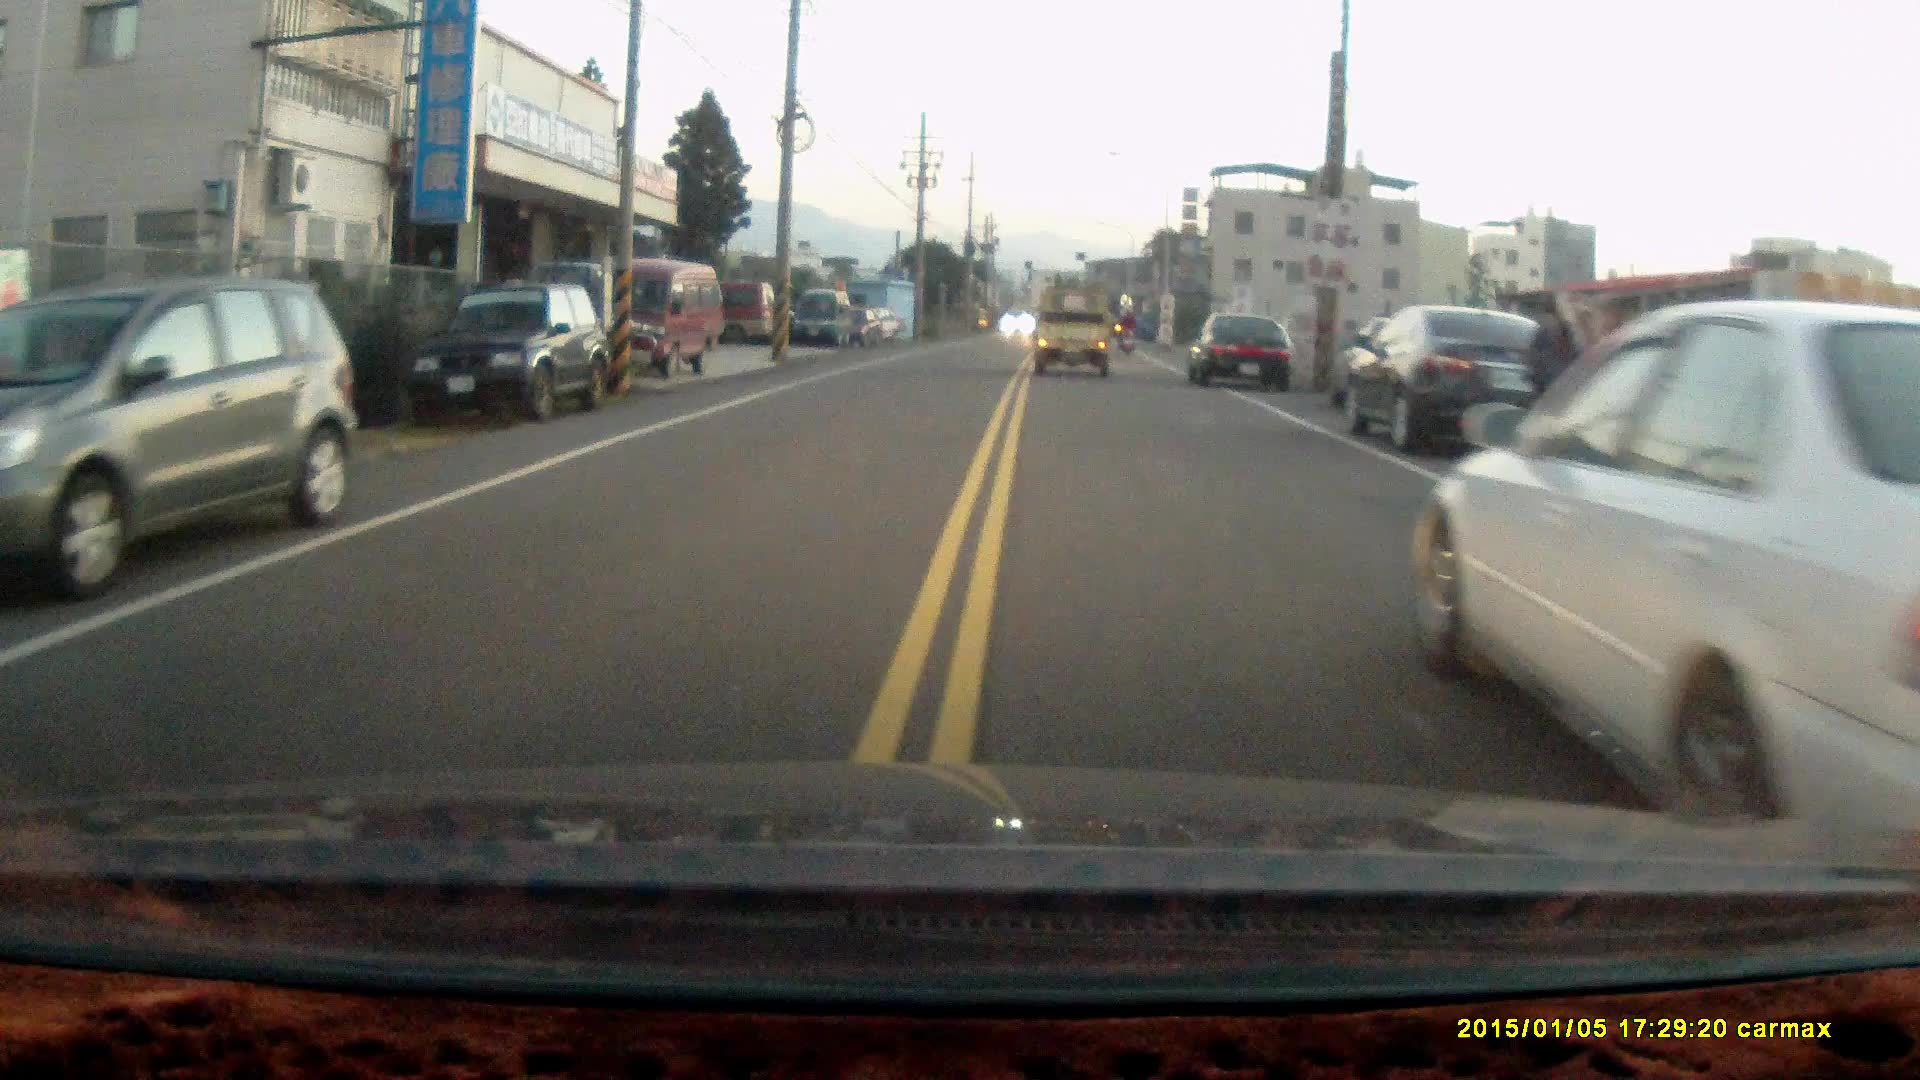pedestrian: (1515, 298, 1580, 470)
vehicle: (1421, 302, 1920, 830), (1, 281, 365, 599), (1344, 302, 1588, 460), (411, 279, 602, 424), (571, 256, 732, 381), (1190, 311, 1299, 389), (1033, 286, 1117, 370), (792, 289, 855, 346)
